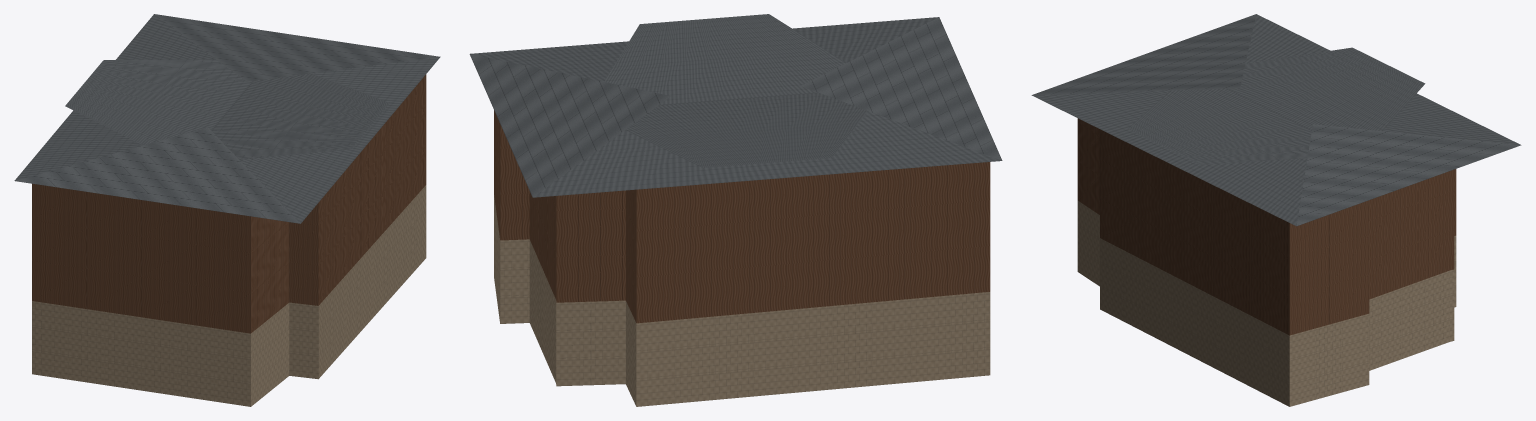
Rendered from bld_c2_-8_598.gltf.
3 views of the same model, side by side, from view 1: azimuth 30°, elevation 25°; view 2: azimuth 150°, elevation 25°; view 3: azimuth 270°, elevation 25° (orthographic). The views are drawn at different scales.
Visible parts, largest first — view 1: bld_c2_-8_598; view 2: bld_c2_-8_598; view 3: bld_c2_-8_598.
Boxes of the visible parts, x1,y1,x2,y2 form: bld_c2_-8_598: [14, 14, 440, 406]; bld_c2_-8_598: [469, 14, 1002, 406]; bld_c2_-8_598: [1031, 14, 1521, 406].
Size of the model in its own units: 32.54 by 14.5 by 31.74.
3 materials, 3 textured.
